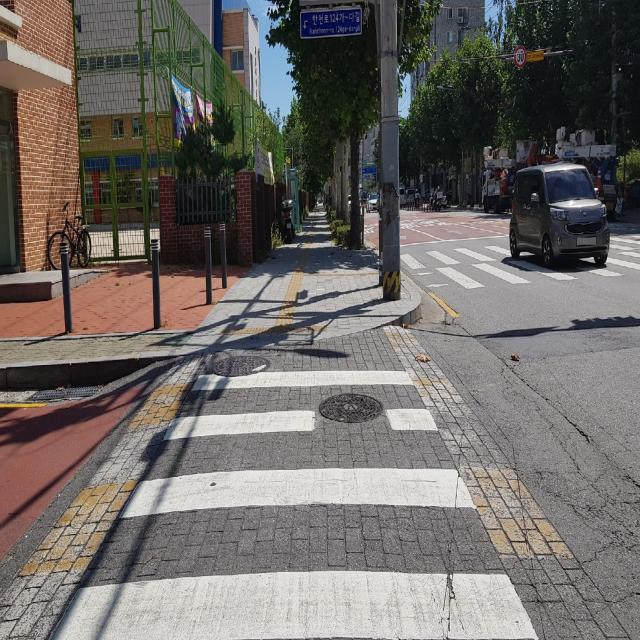횡단보도: (50, 369, 540, 640), (400, 247, 640, 286)
